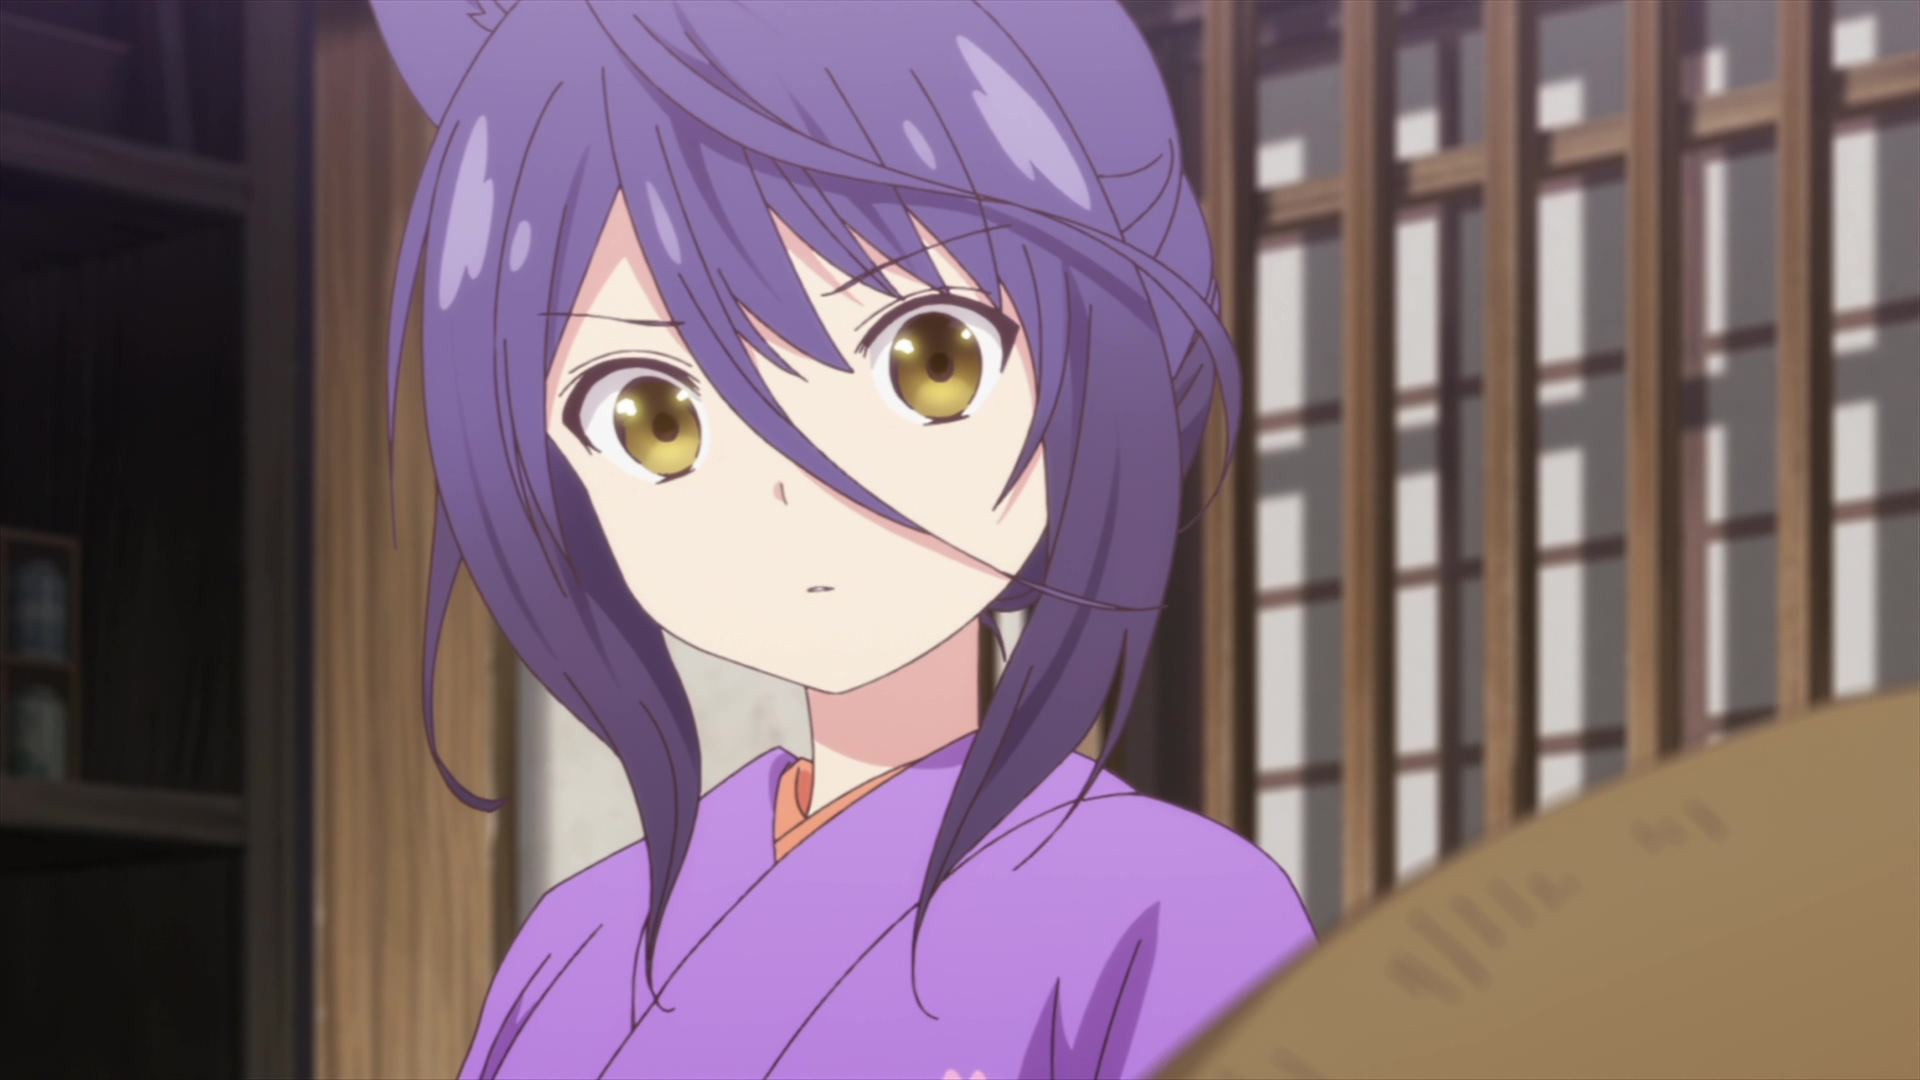皋: (371, 1, 1317, 1080)
